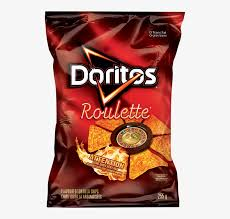Doritos: (41, 23, 194, 197)
